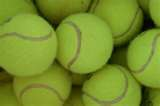tennis ball: (55, 12, 114, 74), (1, 13, 57, 76), (12, 62, 73, 106), (81, 64, 142, 105), (88, 1, 143, 45), (126, 28, 160, 88)
